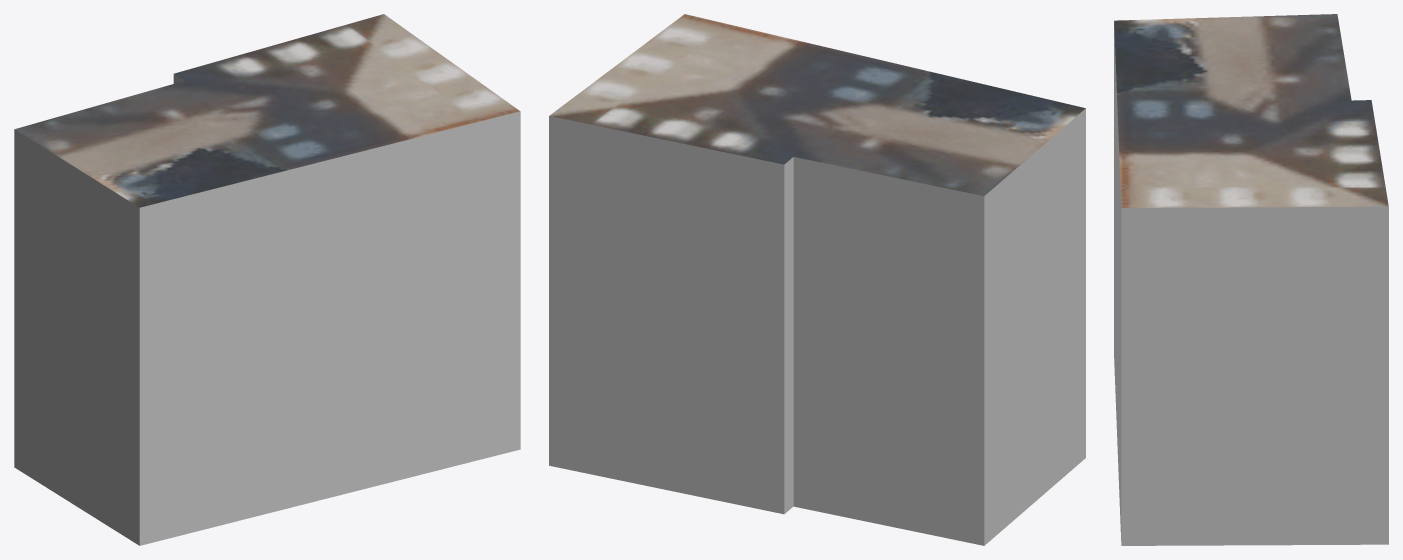
The model's file is DEBW_0010007Tx7K.gltf.
The picture shows the model from 3 angles, left to right: view 1: azimuth 30°, elevation 25°; view 2: azimuth 150°, elevation 25°; view 3: azimuth 270°, elevation 25°; orthographic projection. The views are drawn at different scales.
Parts seen in each view (by area): view 1: Z_UP; view 2: Z_UP; view 3: Z_UP.
Part boxes in pixels (<box>): Z_UP: <box>14,14,520,545</box>; Z_UP: <box>549,14,1085,545</box>; Z_UP: <box>1114,14,1388,545</box>.
Size of the model in its own units: 22.33 by 18.14 by 13.36.
2 materials, 1 textured.
